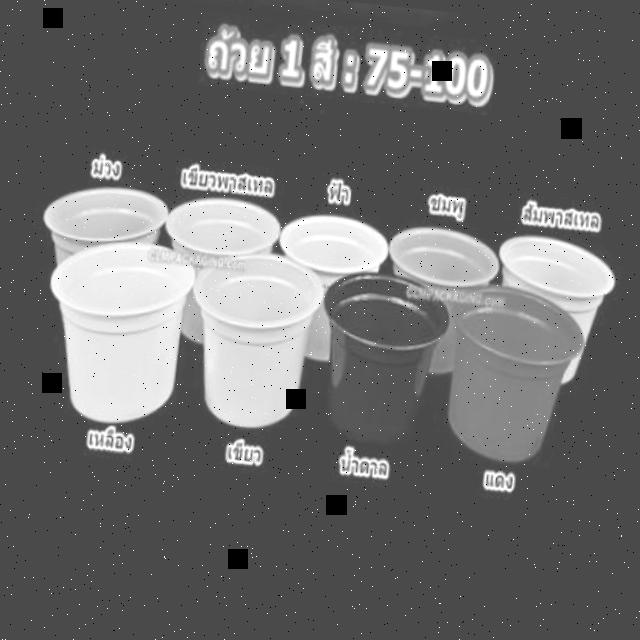plastic_cup: (39, 184, 616, 388), (32, 231, 200, 430), (179, 251, 326, 433), (312, 266, 452, 442), (440, 285, 575, 465)
